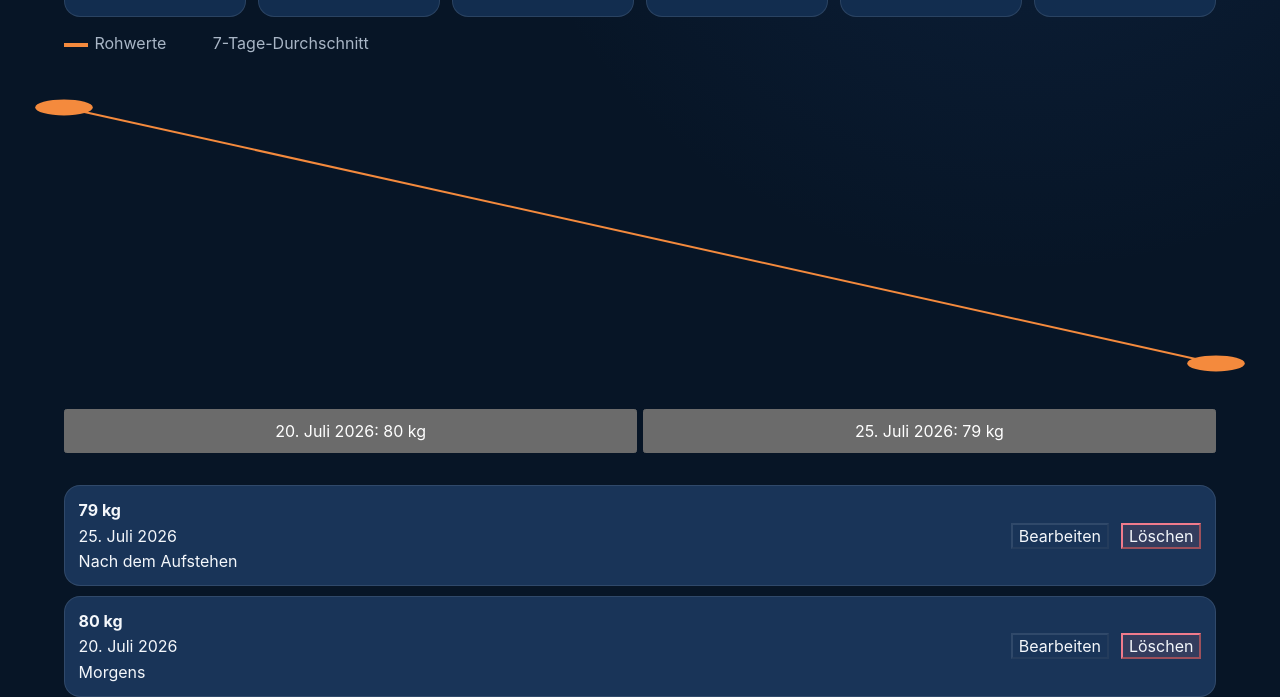
it: BodyWeightPage › shows summary, raw values, seven-day trend and a tappable note
(page scrolled)
Expected: the text "Rohwerte" is shown, [64,33,166,53]
Expected: the text "7-Tage-Durchschnitt" is shown, [213,33,369,53]
Click the button "25. Juli 2026: 79 kg". click: (929, 431)
box: [643,409,1216,453]
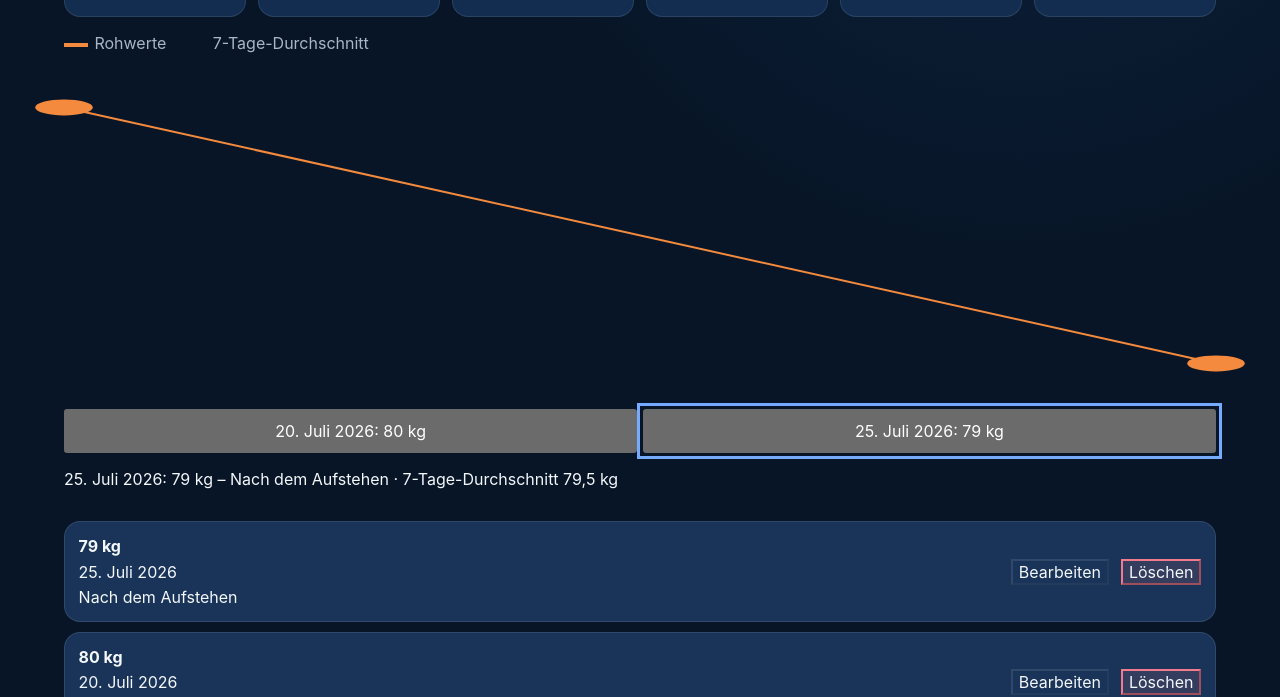
Now the message shows "Nach dem Aufstehen", box [213,469,618,489]
